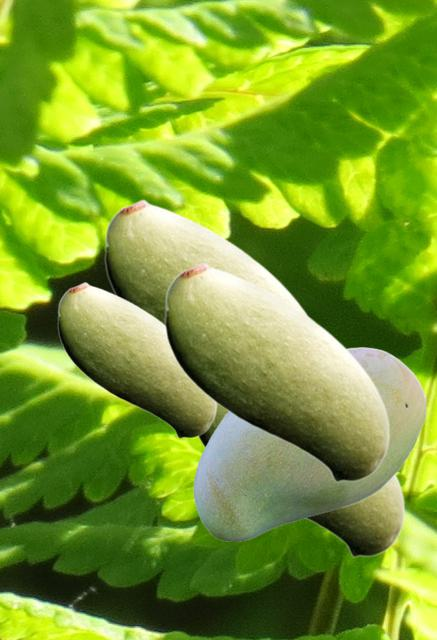green_mango: (164, 261, 389, 482), (193, 347, 426, 540), (197, 405, 404, 557), (104, 198, 311, 321), (57, 281, 216, 438)
